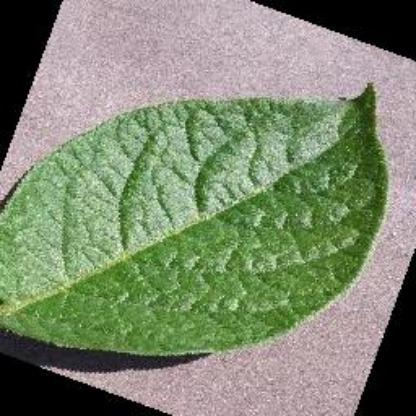Healthy-plant: (0, 23, 386, 402)
